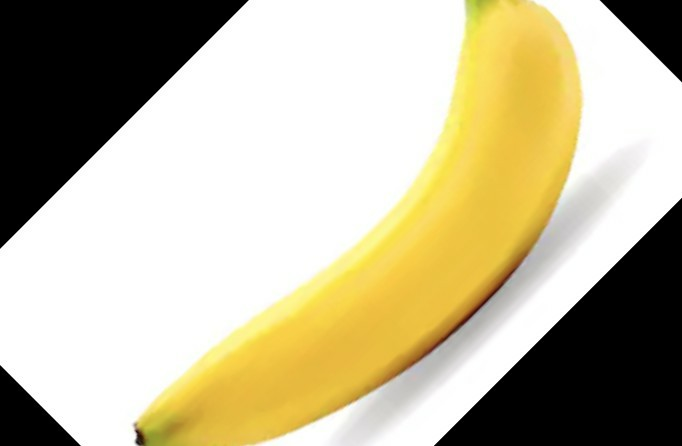fresh_banana: (129, 2, 579, 441)
